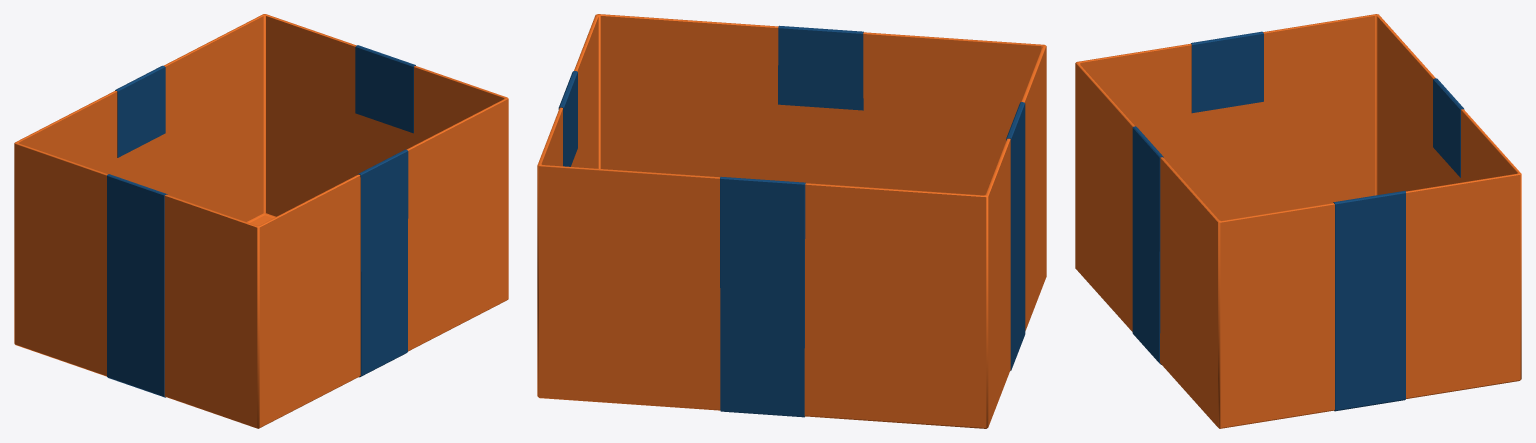
Rendered from Present2.fbx.
The picture shows the model from 3 angles, left to right: view 1: azimuth 30°, elevation 25°; view 2: azimuth 150°, elevation 25°; view 3: azimuth 270°, elevation 25°; orthographic projection. The views are drawn at different scales.
Visible parts, largest first — view 1: Present2; view 2: Present2; view 3: Present2.
Boxes of the visible parts, x1,y1,x2,y2 form: Present2: (14, 14, 508, 428); Present2: (537, 14, 1046, 428); Present2: (1075, 14, 1521, 428).
Bounding box in the file's own units: 0.6031 × 0.2814 × 0.545.
